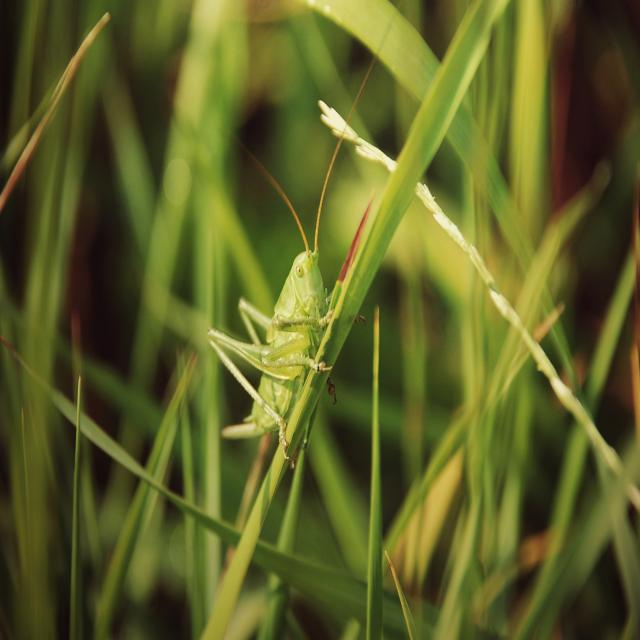ZhaMeng: (200, 212, 359, 470)
